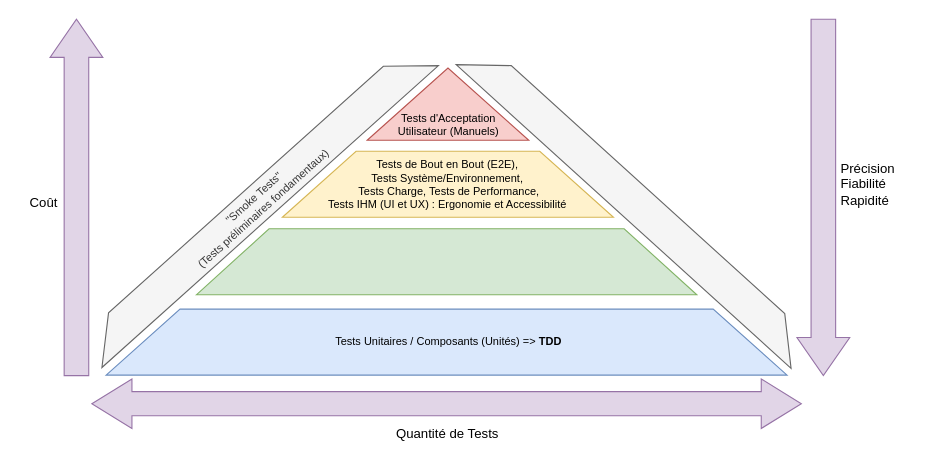
Some shapes in this 935 by 468 pixel diagram are drawn without their labels. The shapes that lost their labels are listed below. From the top down, each one's box as (x1, y1, x2, y2) in pixels, then its label:
(455, 36, 816, 369): Tests de Sécurité
(195, 228, 697, 295): Tests Fonctionnels (Behaviour) => BDD Tests d'Intégration
